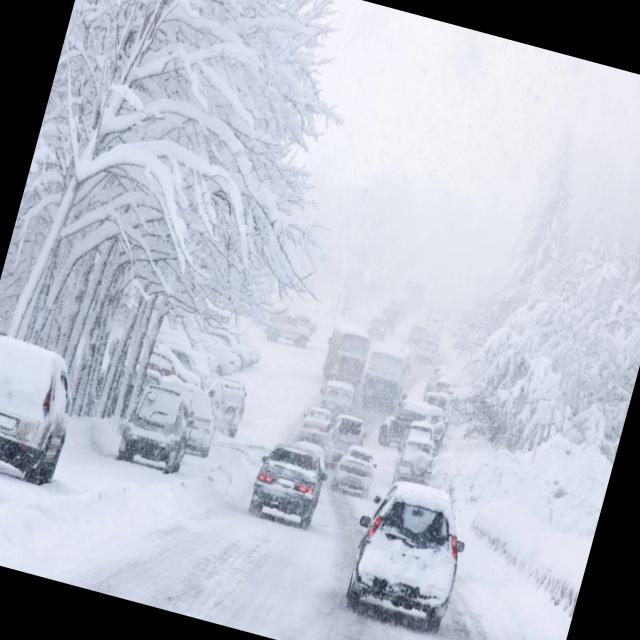Vehicle: (346, 470, 481, 636), (0, 328, 90, 482), (112, 369, 202, 478), (238, 438, 334, 536), (326, 442, 378, 502), (208, 372, 256, 434), (330, 406, 379, 453), (294, 394, 336, 444), (397, 430, 441, 476)
